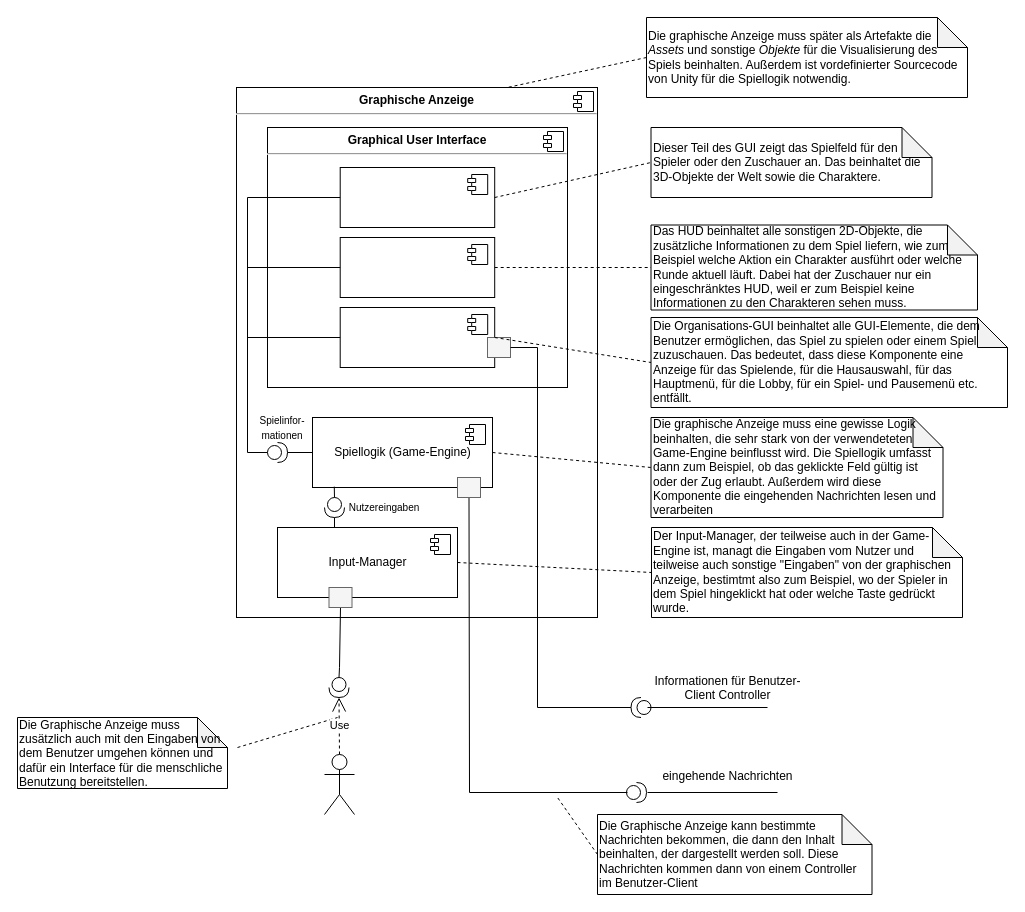
Some shapes in this 1025 by 912 pixel diagram are drawn without their labels. The centre of each missing label's shape, as x and y in pixels:
HUD: the point at 417,267
menschlicher Benutzer: the point at 339,784
Organisations-GUI: the point at 417,337
Spielfeld-UI: the point at 417,197
